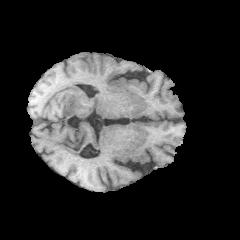glioma: (43, 82, 87, 119)
